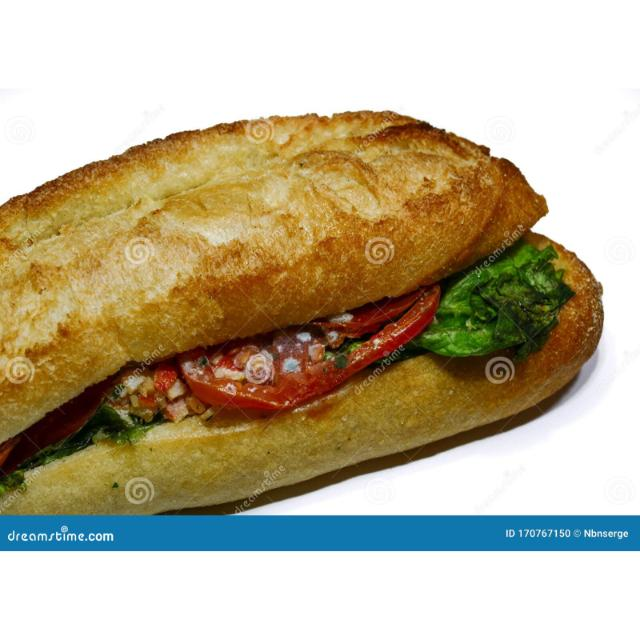organic: (0, 110, 599, 513)
